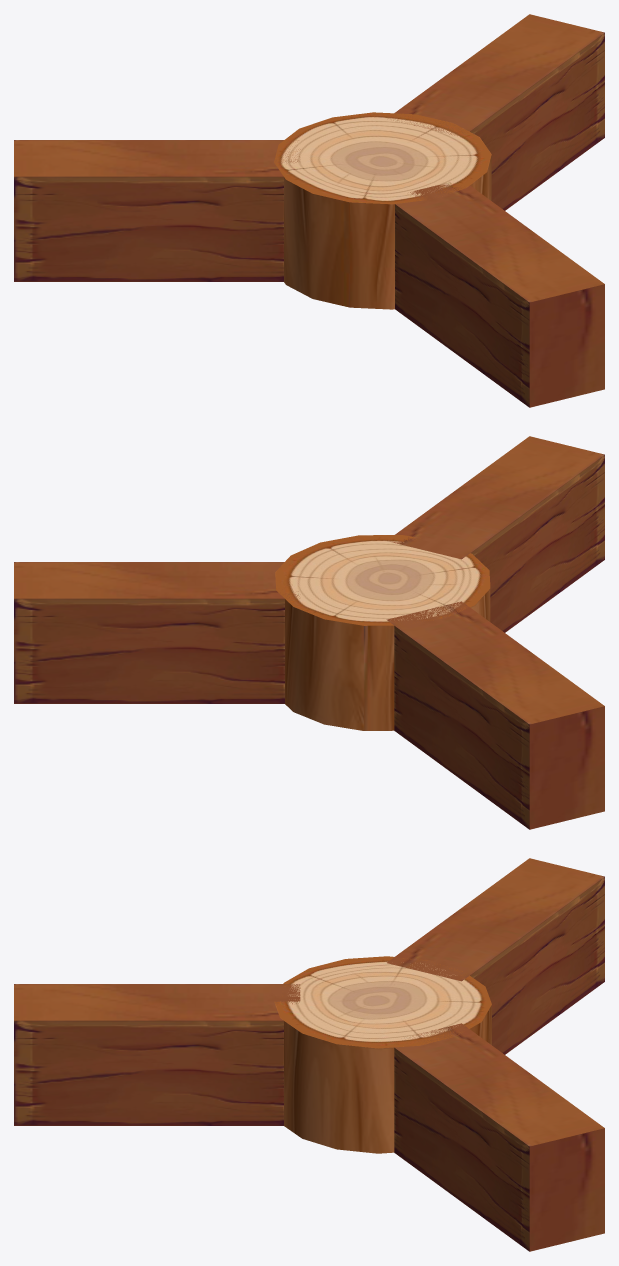
File: three_blade_wood_01.fbx
The picture shows the model from 3 angles, top to bottom: view 1: azimuth 30°, elevation 25°; view 2: azimuth 150°, elevation 25°; view 3: azimuth 270°, elevation 25°; orthographic projection.
Visible parts, largest first — view 1: Blade_60, Blade_58, wood_center_12, Blade_59; view 2: Blade_59, Blade_60, wood_center_12, Blade_58; view 3: Blade_58, Blade_59, wood_center_12, Blade_60.
Boxes of the visible parts, x1,y1,x2,y2 form: Blade_60: (14, 140, 300, 281); Blade_58: (395, 182, 604, 407); wood_center_12: (274, 112, 491, 309); Blade_59: (388, 14, 604, 210); Blade_59: (14, 562, 299, 703); Blade_60: (386, 601, 604, 829); wood_center_12: (275, 535, 490, 730); Blade_58: (389, 436, 604, 632); Blade_58: (14, 984, 300, 1125); Blade_59: (394, 1023, 604, 1251); wood_center_12: (274, 956, 491, 1153); Blade_60: (387, 858, 604, 1054).
Size of the model in its own units: 235 by 40 by 204.
